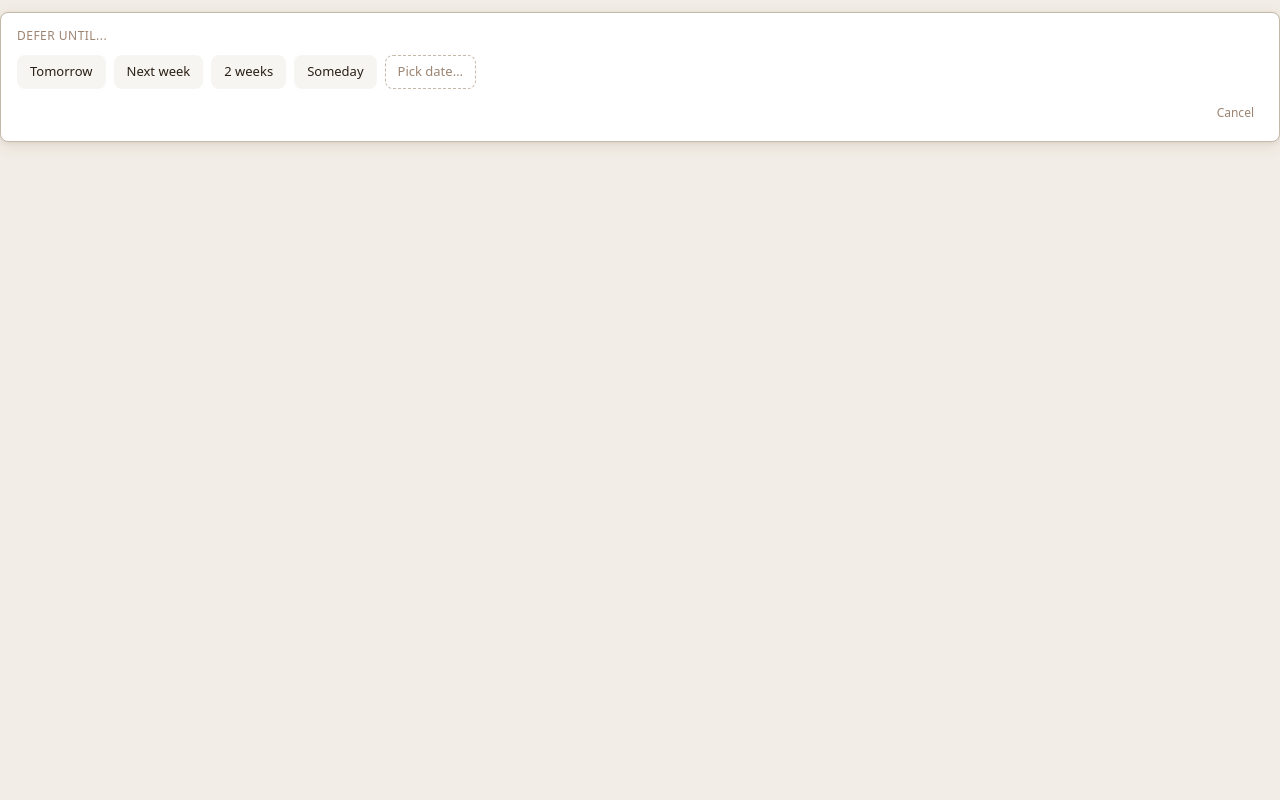
Test case: DeferMenu › Set button is disabled when no date is picked
Click the button "Pick date…": (430, 72) [384,55,476,88]
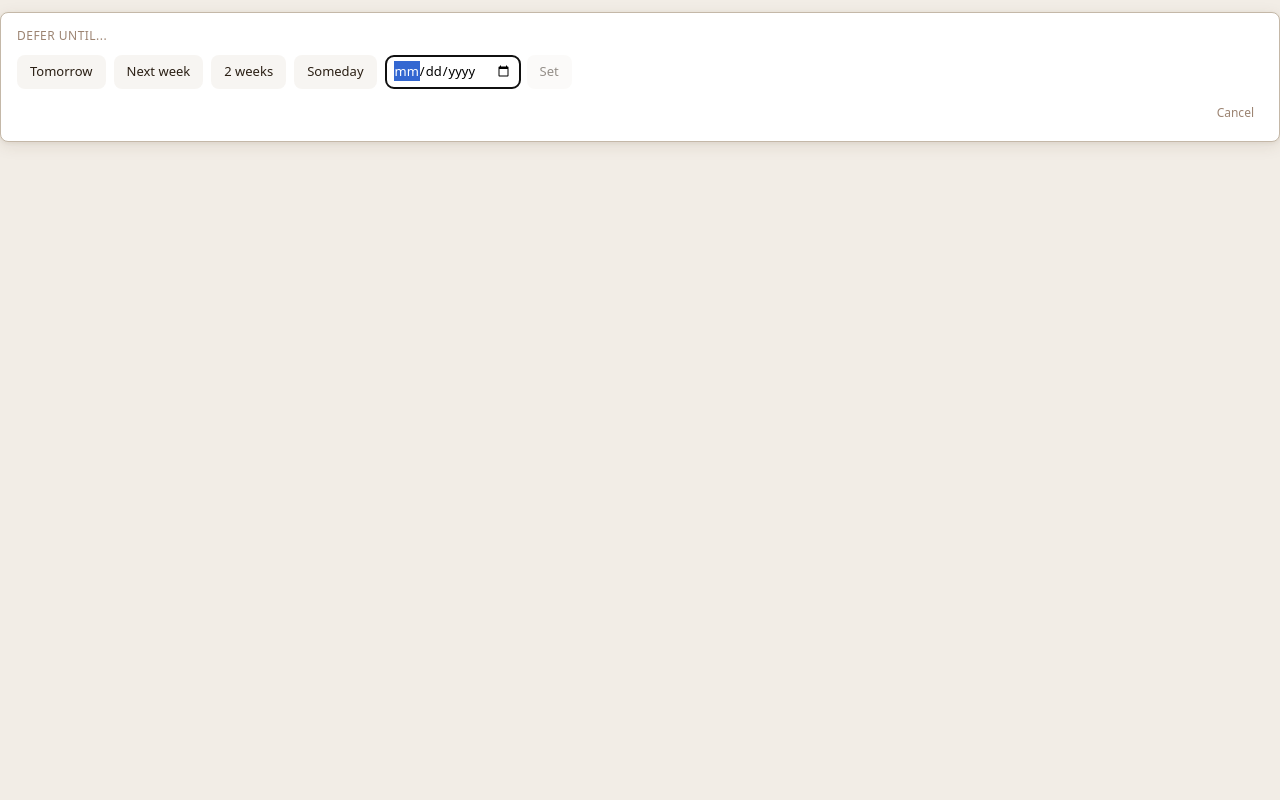
Expected: the button "Set" is disabled, [526,55,572,88]
